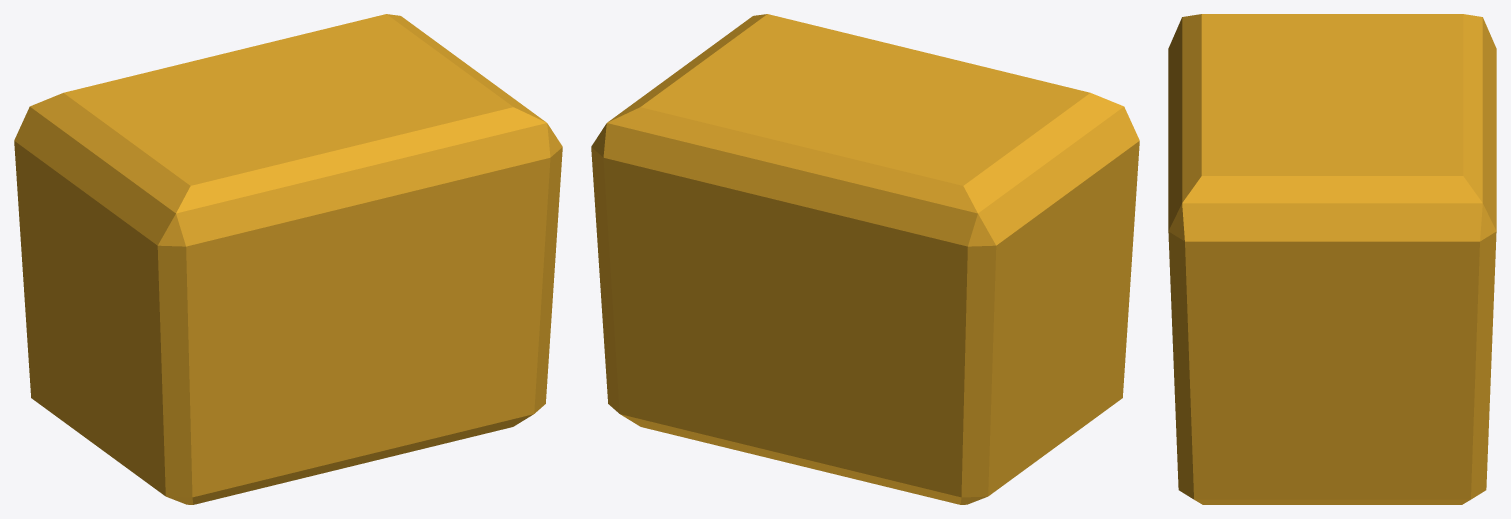
Rendered from HELB.fbx.
The picture shows the model from 3 angles, left to right: view 1: azimuth 30°, elevation 25°; view 2: azimuth 150°, elevation 25°; view 3: azimuth 270°, elevation 25°; orthographic projection. The views are drawn at different scales.
Parts seen in each view (by area): view 1: Cube.022; view 2: Cube.022; view 3: Cube.022.
Part boxes in pixels (x1,y1,x2,y2): Cube.022: [14, 14, 562, 504]; Cube.022: [591, 14, 1139, 504]; Cube.022: [1168, 14, 1496, 504].
Bounding box in the file's own units: 293 × 220 × 200.
